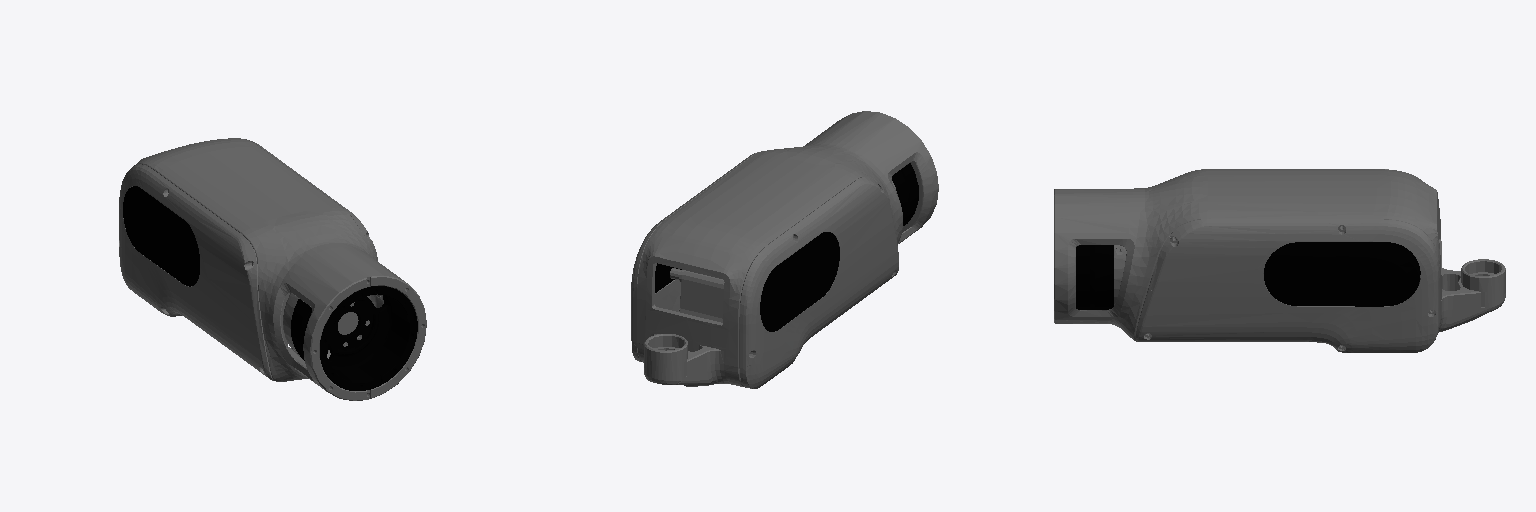
Rendered from left_hand_yaw_link.obj.
3 renders of one model, left to right at view 1: azimuth 30°, elevation 25°; view 2: azimuth 150°, elevation 25°; view 3: azimuth 270°, elevation 25°, orthographic.
Parts seen in each view (by area): view 1: left_hand_yaw_link; view 2: left_hand_yaw_link; view 3: left_hand_yaw_link.
Part boxes in pixels (x1,y1,x2,y2): left_hand_yaw_link: (119,138,426,400); left_hand_yaw_link: (631,111,938,388); left_hand_yaw_link: (1054,169,1505,352).
Bounding box in the file's own units: 0.0676 × 0.0694 × 0.207.